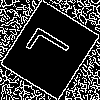L: (25, 24, 80, 72)
